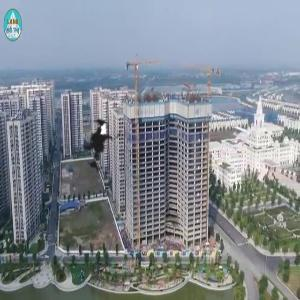drone: (62, 105, 146, 189)
